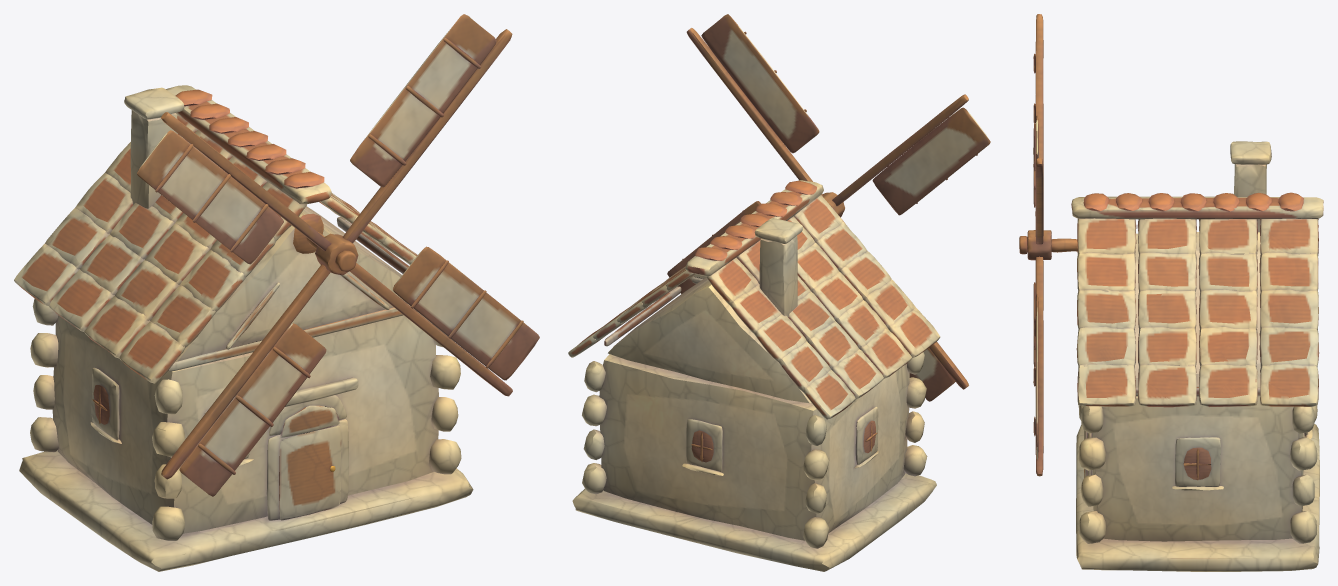
Rendered from A01_Windmill.fbx.
The picture shows the model from 3 angles, left to right: view 1: azimuth 30°, elevation 25°; view 2: azimuth 150°, elevation 25°; view 3: azimuth 270°, elevation 25°; orthographic projection. The views are drawn at different scales.
Visible parts, largest first — view 1: A01_Windmill, A01_Windmill_Rotor; view 2: A01_Windmill, A01_Windmill_Rotor; view 3: A01_Windmill, A01_Windmill_Rotor.
Boxes of the visible parts, x1,y1,x2,y2 form: A01_Windmill: [14, 85, 473, 571]; A01_Windmill_Rotor: [137, 14, 539, 496]; A01_Windmill: [568, 180, 940, 571]; A01_Windmill_Rotor: [667, 14, 990, 401]; A01_Windmill: [1051, 141, 1323, 571]; A01_Windmill_Rotor: [1019, 14, 1051, 476].
Bounding box in the file's own units: 4.98 × 6.04 × 3.75.
